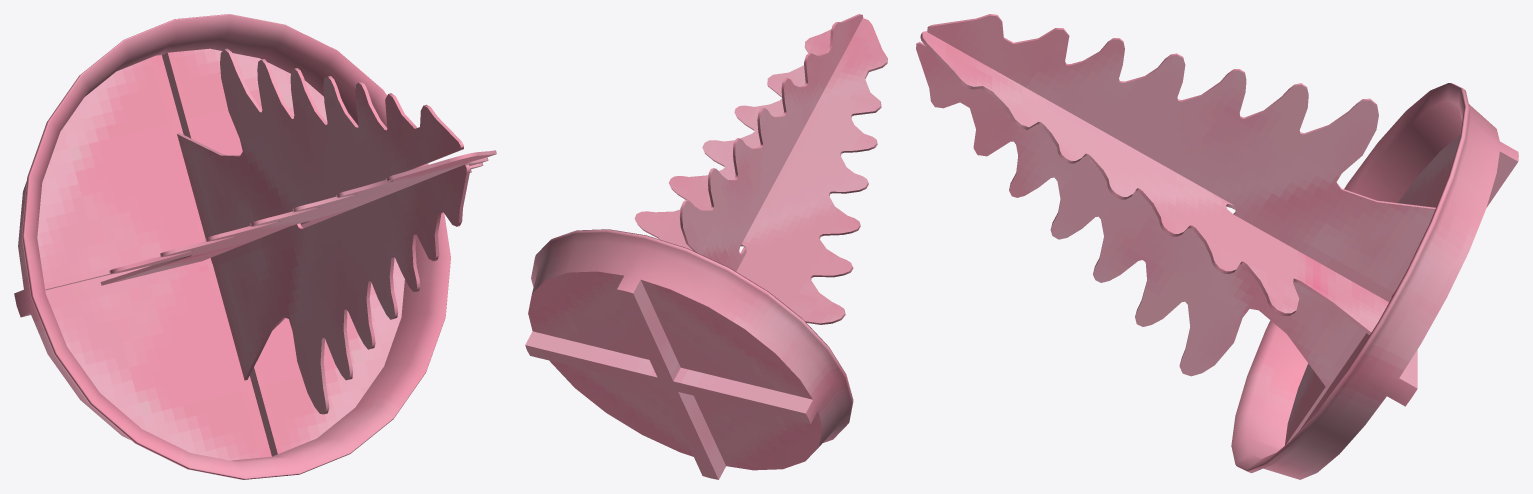
Rendered from ref_gtpapertree.fbx.
3 renders of one model, left to right at view 1: azimuth 30°, elevation 25°; view 2: azimuth 150°, elevation 25°; view 3: azimuth 270°, elevation 25°, orthographic. The views are drawn at different scales.
Parts seen in each view (by area): view 1: ref_gtpapertree; view 2: ref_gtpapertree; view 3: ref_gtpapertree.
Boxes of the visible parts, box(x1,y1,x2,y2) form: ref_gtpapertree: box(14, 14, 496, 479); ref_gtpapertree: box(525, 14, 887, 479); ref_gtpapertree: box(916, 14, 1518, 479).
Size of the model in its own units: 73.58 by 83.05 by 100.
